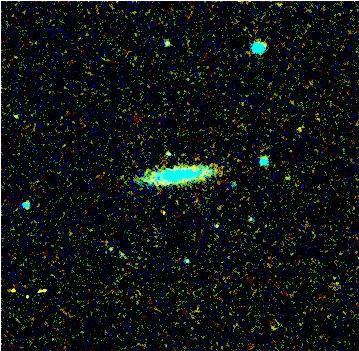star: (152, 138, 182, 168)
